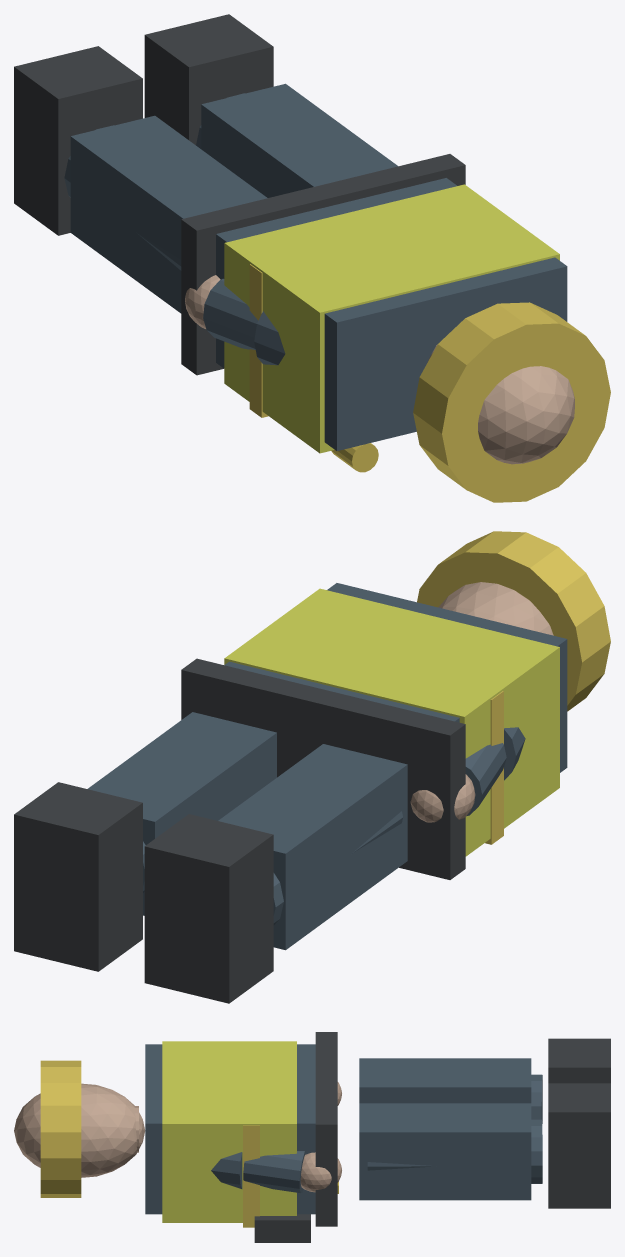
File: Femme_Secours_routier_SDIS37_V2.glb
The picture shows the model from 3 angles, top to bottom: view 1: azimuth 30°, elevation 25°; view 2: azimuth 150°, elevation 25°; view 3: azimuth 270°, elevation 25°; orthographic projection. The views are drawn at different scales.
Parts seen in each view (by area): view 1: 07_Gilet_Haute_visibilite, 06_Veste_intervention, 09_Casque_secours, 02_Pantalon_gauche, 00_Botte_gauche, 05_Pantalon_droite, 03_Botte_droite, 18_Ceinture, 11_Tete, 13_Avant_bras_gauche, 08_Bande_gilet, 12_Bras_superieur_gauche (+2 smaller); view 2: 07_Gilet_Haute_visibilite, 18_Ceinture, 02_Pantalon_gauche, 00_Botte_gauche, 03_Botte_droite, 05_Pantalon_droite, 09_Casque_secours, 06_Veste_intervention, 11_Tete, 13_Avant_bras_gauche, 08_Bande_gilet, 14_Main_gauche (+2 smaller); view 3: 07_Gilet_Haute_visibilite, 05_Pantalon_droite, 02_Pantalon_gauche, 03_Botte_droite, 11_Tete, 09_Casque_secours, 06_Veste_intervention, 18_Ceinture, 00_Botte_gauche, 16_Avant_bras_droite, 20_Radio, 08_Bande_gilet (+4 smaller).
Part boxes in pixels (bbox=[...]): 07_Gilet_Haute_visibilite: bbox=[224, 184, 559, 453]; 06_Veste_intervention: bbox=[216, 178, 567, 450]; 09_Casque_secours: bbox=[413, 302, 610, 502]; 02_Pantalon_gauche: bbox=[70, 115, 267, 313]; 00_Botte_gauche: bbox=[14, 46, 142, 235]; 05_Pantalon_droite: bbox=[201, 83, 397, 197]; 03_Botte_droite: bbox=[144, 14, 273, 145]; 18_Ceinture: bbox=[181, 154, 465, 375]; 11_Tete: bbox=[427, 353, 574, 464]; 13_Avant_bras_gauche: bbox=[203, 278, 258, 349]; 08_Bande_gilet: bbox=[249, 264, 268, 417]; 12_Bras_superieur_gauche: bbox=[254, 311, 285, 365]; 07_Gilet_Haute_visibilite: bbox=[224, 588, 559, 856]; 18_Ceinture: bbox=[181, 658, 465, 879]; 02_Pantalon_gauche: bbox=[218, 744, 407, 950]; 00_Botte_gauche: bbox=[144, 814, 273, 1003]; 03_Botte_droite: bbox=[14, 782, 142, 971]; 05_Pantalon_droite: bbox=[87, 712, 276, 915]; 09_Casque_secours: bbox=[417, 531, 610, 711]; 06_Veste_intervention: bbox=[224, 583, 567, 772]; 11_Tete: bbox=[438, 582, 553, 635]; 13_Avant_bras_gauche: bbox=[465, 743, 506, 816]; 08_Bande_gilet: bbox=[485, 691, 503, 844]; 14_Main_gauche: bbox=[410, 774, 475, 822]; 07_Gilet_Haute_visibilite: bbox=[162, 1041, 296, 1222]; 05_Pantalon_droite: bbox=[359, 1103, 531, 1200]; 02_Pantalon_gauche: bbox=[359, 1058, 531, 1103]; 03_Botte_droite: bbox=[548, 1083, 610, 1208]; 11_Tete: bbox=[14, 1083, 145, 1177]; 09_Casque_secours: bbox=[40, 1060, 81, 1197]; 06_Veste_intervention: bbox=[145, 1044, 315, 1214]; 18_Ceinture: bbox=[315, 1032, 337, 1226]; 00_Botte_gauche: bbox=[548, 1038, 610, 1083]; 16_Avant_bras_droite: bbox=[243, 1151, 305, 1193]; 20_Radio: bbox=[254, 1214, 310, 1242]; 08_Bande_gilet: bbox=[243, 1125, 259, 1227].
Bounding box in the file's own units: 0.73 × 0.46 × 1.91.
